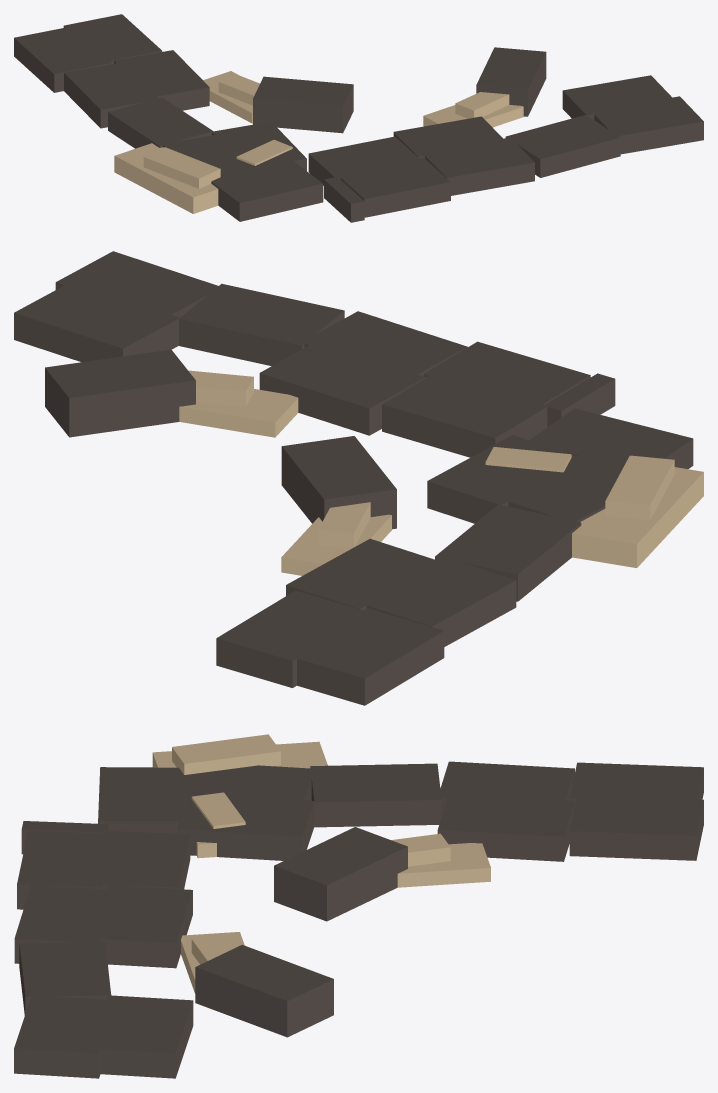
File: SM_PretilEsquina_v3_Tablon_e3_Brecha_LOD0.fbx
The picture shows the model from 3 angles, top to bottom: view 1: azimuth 30°, elevation 25°; view 2: azimuth 150°, elevation 25°; view 3: azimuth 270°, elevation 25°; orthographic projection. The views are drawn at different scales.
Parts seen in each view (by area): view 1: SM_pretil_azotea_v35_LOD0; view 2: SM_pretil_azotea_v35_LOD0; view 3: SM_pretil_azotea_v35_LOD0.
Part boxes in pixels (bbox=[...]): SM_pretil_azotea_v35_LOD0: bbox=[14, 14, 703, 222]; SM_pretil_azotea_v35_LOD0: bbox=[14, 251, 703, 705]; SM_pretil_azotea_v35_LOD0: bbox=[14, 734, 703, 1078].
Bounding box in the file's own units: 4.85 × 0.26 × 4.5.
